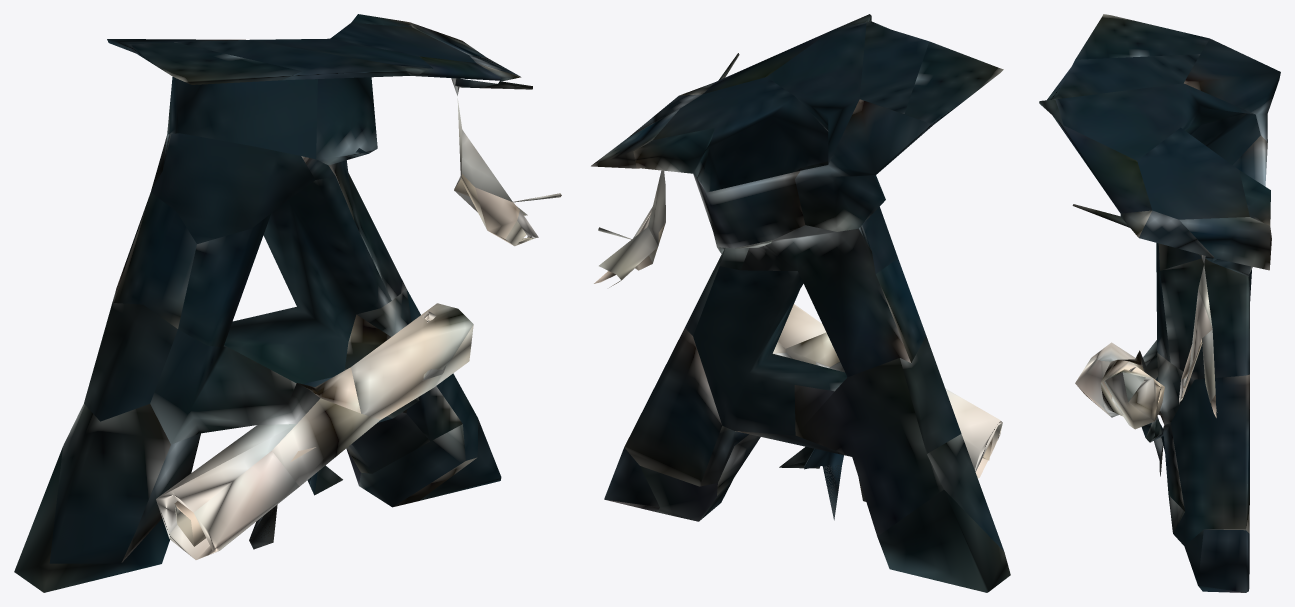
The picture shows the model from 3 angles, left to right: view 1: azimuth 30°, elevation 25°; view 2: azimuth 150°, elevation 25°; view 3: azimuth 270°, elevation 25°; orthographic projection. The views are drawn at different scales.
Parts seen in each view (by area): view 1: Graduation-A; view 2: Graduation-A; view 3: Graduation-A.
Part boxes in pixels (left/top/right/bottom): Graduation-A: left=14, top=14, right=561, bottom=592; Graduation-A: left=591, top=14, right=1010, bottom=592; Graduation-A: left=1039, top=14, right=1280, bottom=592.
Size of the model in its own units: 0.2782 by 0.2845 by 0.1453.
1 material, 1 textured.
